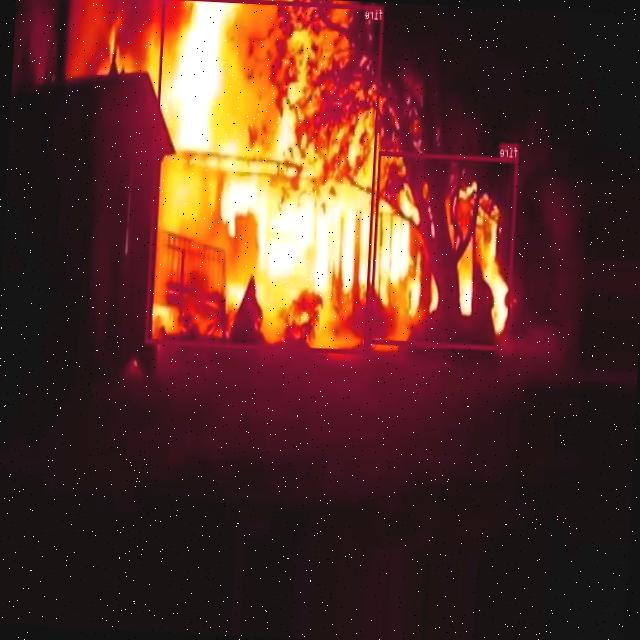fire: (145, 0, 384, 353), (370, 152, 520, 350)
